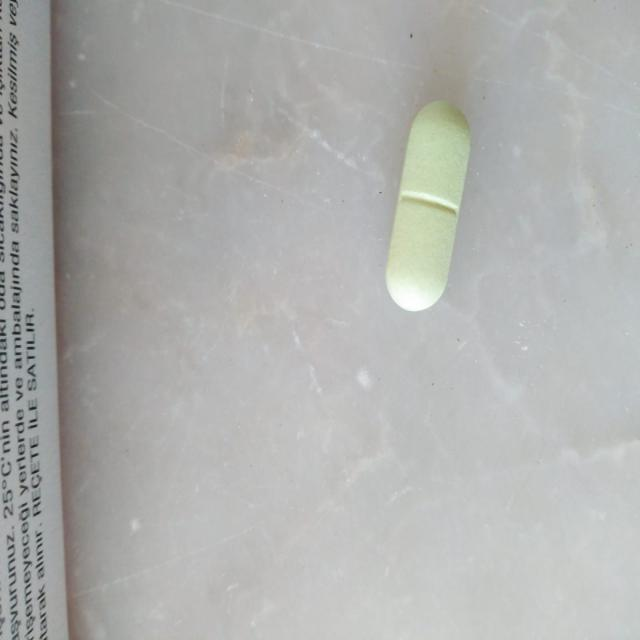pills: (367, 80, 481, 321)
